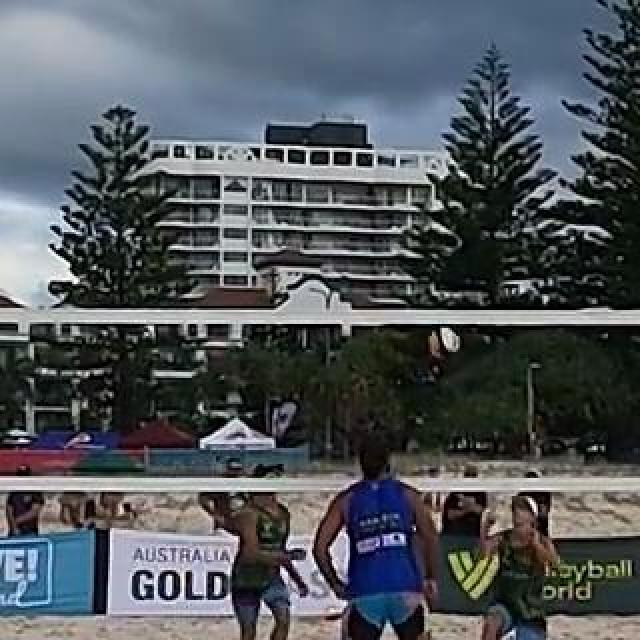volleyball: (427, 328, 457, 356)
